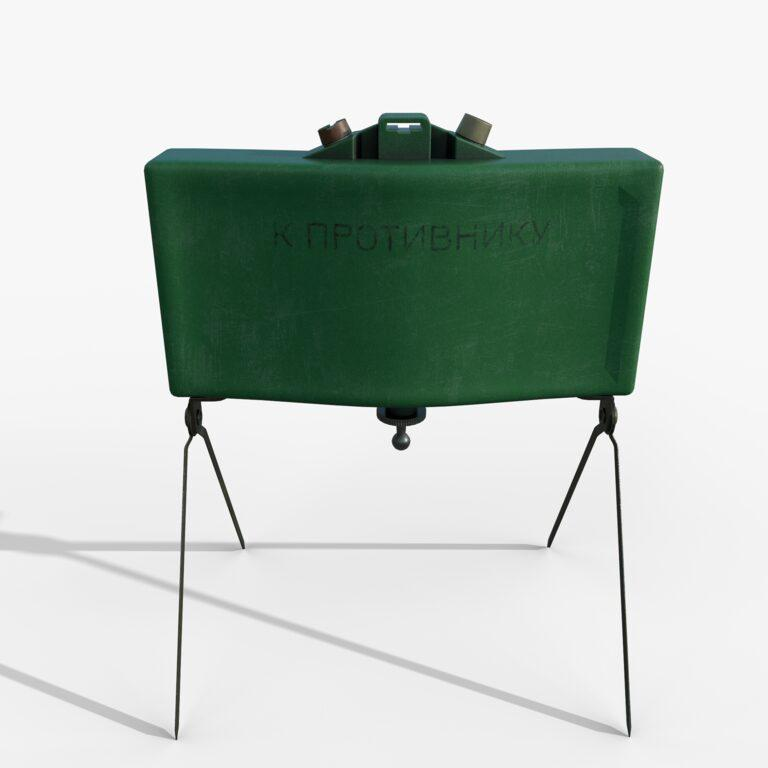MON 50: (141, 111, 663, 411)
